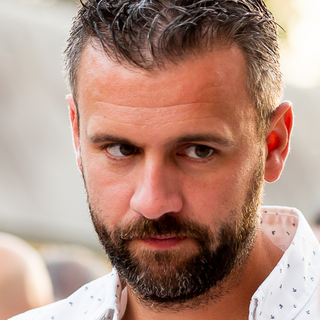eye: (169, 141, 223, 163), (97, 140, 141, 163)
